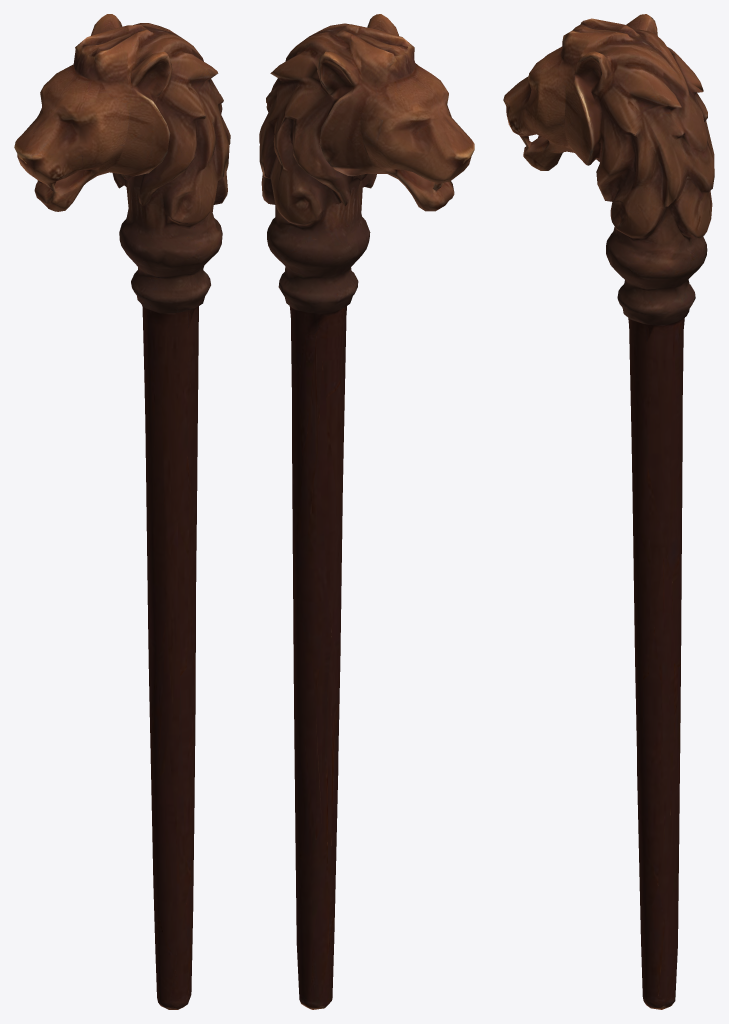
Rendered from lion_staff.glb.
3 views of the same model, side by side, from view 1: azimuth 30°, elevation 25°; view 2: azimuth 150°, elevation 25°; view 3: azimuth 330°, elevation 25° (orthographic).
Bounding box in the file's own units: 0.4196 × 1.89 × 0.2308.
Materials: 1 (1 with a texture image).
